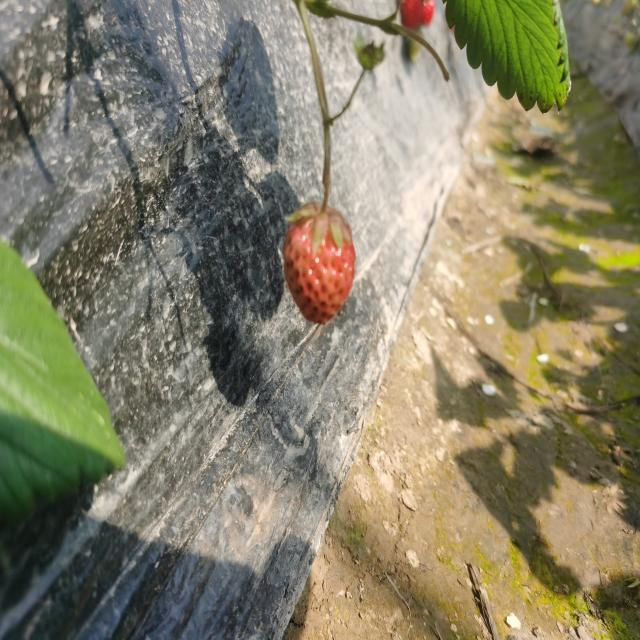stem: (321, 153, 330, 216)
strawberry: (283, 203, 355, 325)
